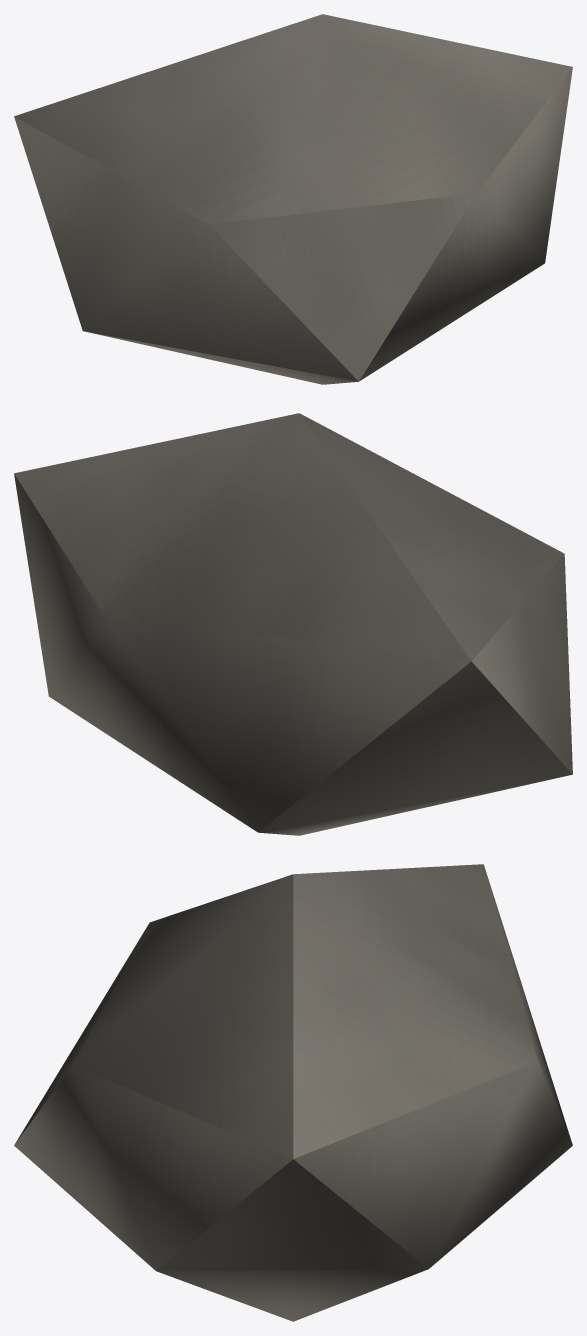
File: pedra_pequena.glb
3 views of the same model, one above another, from view 1: azimuth 30°, elevation 25°; view 2: azimuth 150°, elevation 25°; view 3: azimuth 270°, elevation 25° (orthographic). The views are drawn at different scales.
Parts seen in each view (by area): view 1: Inteiro; view 2: Inteiro; view 3: Inteiro.
Boxes of the visible parts, <box> form: Inteiro: <box>14,14,572,384</box>; Inteiro: <box>14,413,572,835</box>; Inteiro: <box>14,864,572,1321</box>.
Bounding box in the file's own units: 0.597 × 0.4314 × 0.4883.
1 material, 1 textured.
